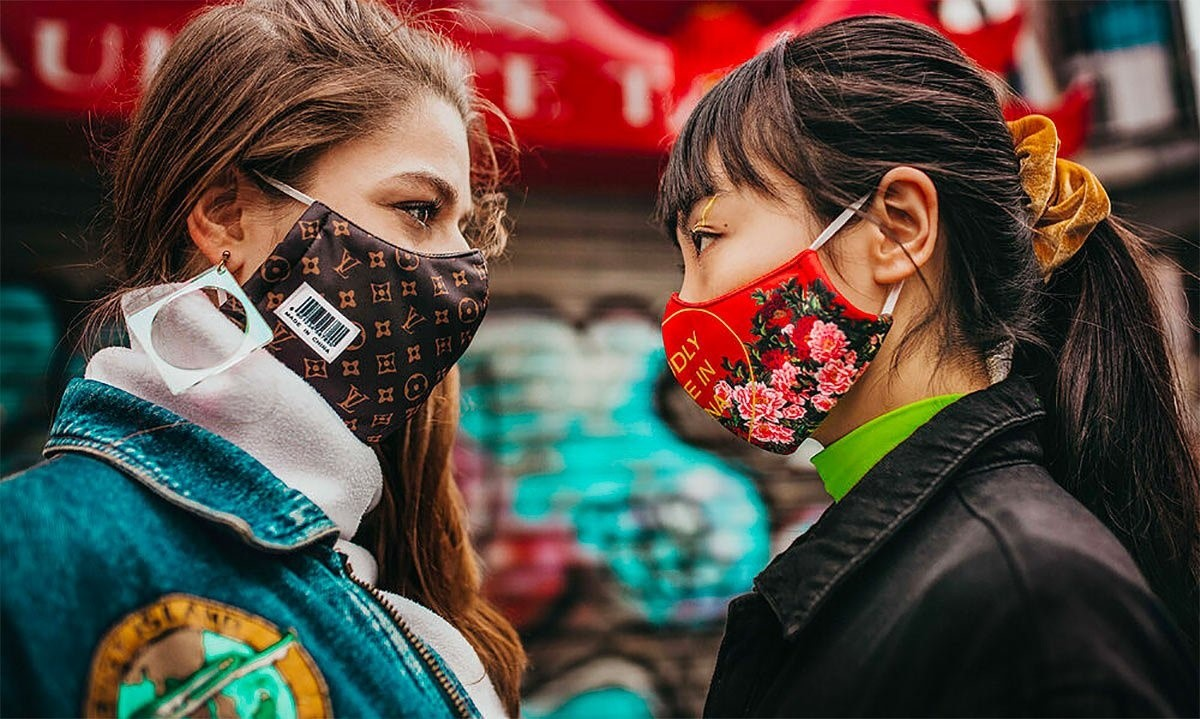face_with_mask: (658, 18, 1029, 459), (134, 3, 496, 451)
